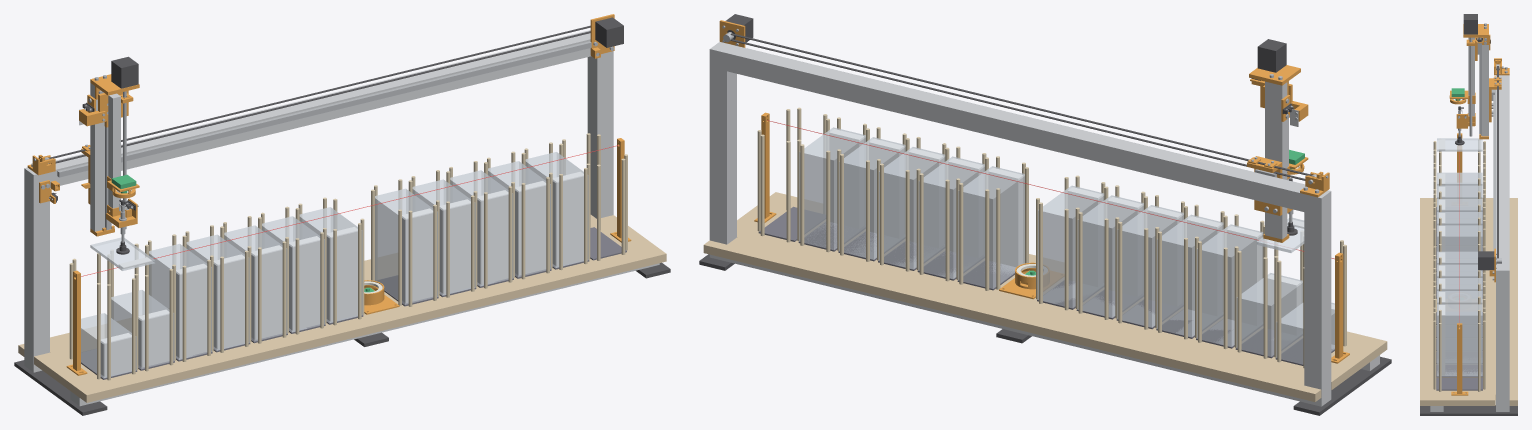
File: slabrail_carry.glb
The picture shows the model from 3 angles, left to right: view 1: azimuth 30°, elevation 25°; view 2: azimuth 150°, elevation 25°; view 3: azimuth 270°, elevation 25°; orthographic projection. The views are drawn at different scales.
Visible parts, largest first — view 1: bed_plywood, x_beam, stack_7, stack_2, upright_L, stack_8, stack_3, stack_6, stack_11, stack_9, stack_4, stack_5 (+31 smaller); view 2: bed_plywood, x_beam, stack_7, stack_2, upright_L, upright_R, stack_5, stack_4, stack_8, stack_11, stack_6, stack_9 (+38 smaller); view 3: bed_plywood, stack_11, x_beam, stack_10, upright_R, stack_6, stack_5, stack_3, stack_2, stack_8, stack_4, stack_9 (+30 smaller).
Boxes of the visible parts, x1,y1,x2,y2 form: bed_plywood: [18, 215, 666, 402]; x_beam: [24, 30, 590, 191]; stack_7: [375, 188, 437, 304]; stack_2: [149, 243, 211, 359]; upright_L: [24, 185, 49, 363]; stack_8: [412, 179, 475, 295]; stack_3: [186, 234, 249, 350]; stack_6: [299, 207, 362, 322]; stack_11: [525, 152, 588, 267]; stack_9: [450, 170, 513, 286]; stack_4: [224, 225, 287, 341]; stack_5: [262, 216, 324, 332]; bed_plywood: [703, 192, 1387, 401]; x_beam: [709, 42, 1331, 216]; stack_7: [958, 166, 1024, 288]; stack_2: [1197, 224, 1263, 346]; upright_L: [1304, 209, 1331, 397]; upright_R: [709, 67, 736, 244]; stack_5: [1077, 195, 1143, 317]; stack_4: [1117, 205, 1183, 327]; stack_8: [918, 156, 984, 278]; stack_11: [799, 127, 865, 249]; stack_6: [1038, 185, 1104, 307]; stack_9: [879, 147, 945, 269]; bed_plywood: [1420, 198, 1517, 405]; stack_11: [1437, 304, 1482, 376]; x_beam: [1496, 75, 1509, 282]; stack_10: [1437, 291, 1482, 362]; upright_R: [1496, 283, 1509, 405]; stack_6: [1437, 225, 1482, 263]; stack_5: [1437, 212, 1482, 250]; stack_3: [1437, 185, 1482, 211]; stack_2: [1437, 172, 1482, 198]; stack_8: [1437, 264, 1482, 290]; stack_4: [1437, 199, 1482, 224]; stack_9: [1437, 278, 1482, 303].
Size of the model in its own units: 1.44 by 0.72 by 0.2895.
